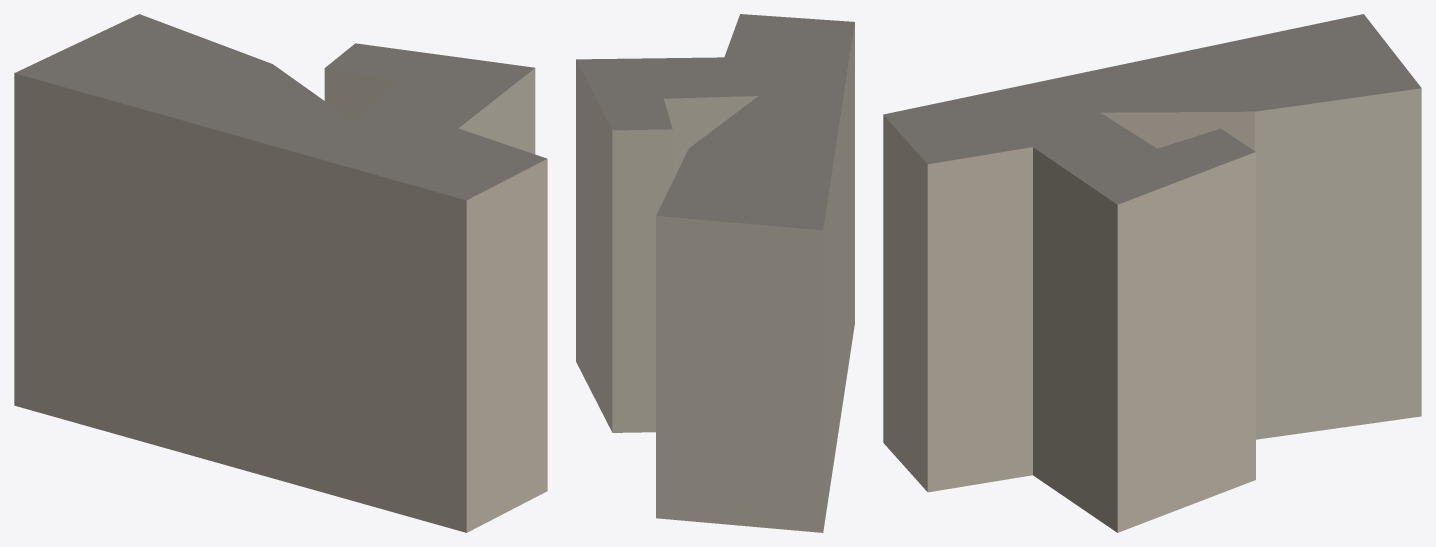
The picture shows the model from 3 angles, left to right: view 1: azimuth 30°, elevation 25°; view 2: azimuth 150°, elevation 25°; view 3: azimuth 270°, elevation 25°; orthographic projection. The views are drawn at different scales.
Parts seen in each view (by area): view 1: HP-w1198568465; view 2: HP-w1198568465; view 3: HP-w1198568465.
Boxes of the visible parts, box(x1,y1,x2,y2) form: HP-w1198568465: box(14, 14, 547, 532); HP-w1198568465: box(576, 14, 854, 532); HP-w1198568465: box(883, 14, 1421, 532).
Size of the model in its own units: 22.45 by 18 by 26.78.
